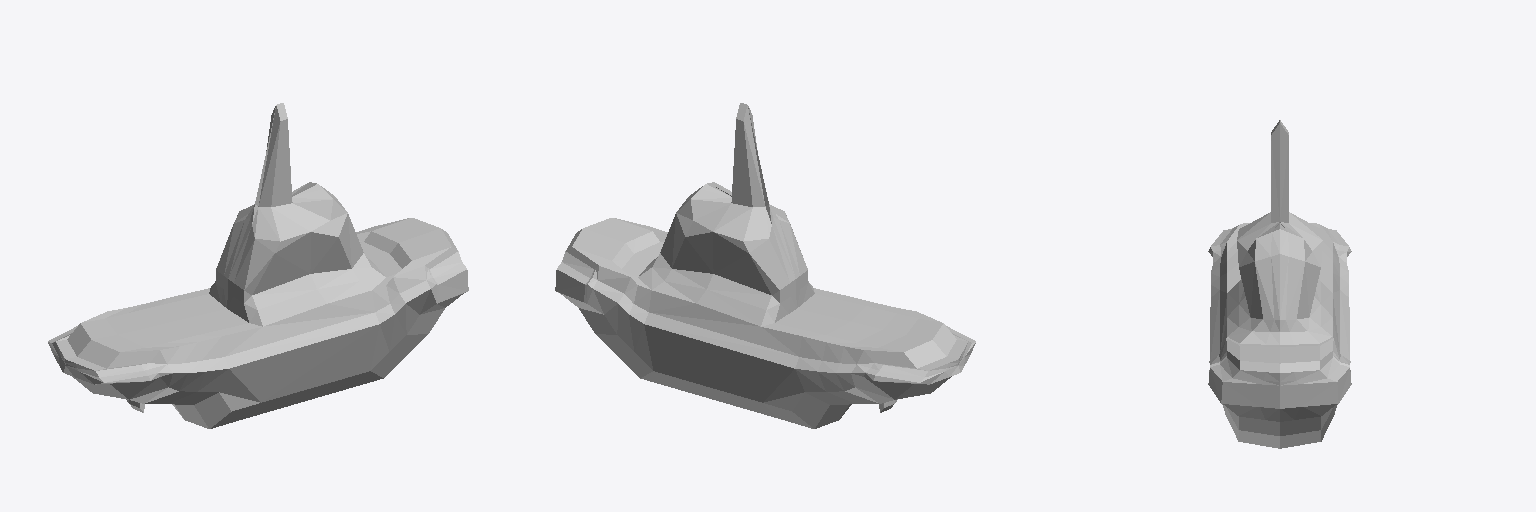
File: boat_01.obj
3 renders of one model, left to right at view 1: azimuth 30°, elevation 25°; view 2: azimuth 150°, elevation 25°; view 3: azimuth 270°, elevation 25°, orthographic.
Parts seen in each view (by area): view 1: Plane; view 2: Plane; view 3: Plane.
Boxes of the visible parts, x1=… form: Plane: x1=48, y1=103, x2=468, y2=428; Plane: x1=555, y1=103, x2=975, y2=428; Plane: x1=1208, y1=120, x2=1351, y2=448.
Bounding box in the file's own units: 4.64 × 3.38 × 1.49.